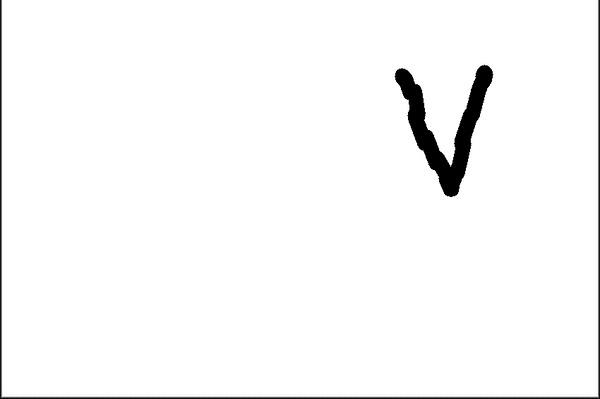V: (383, 51, 521, 215)
